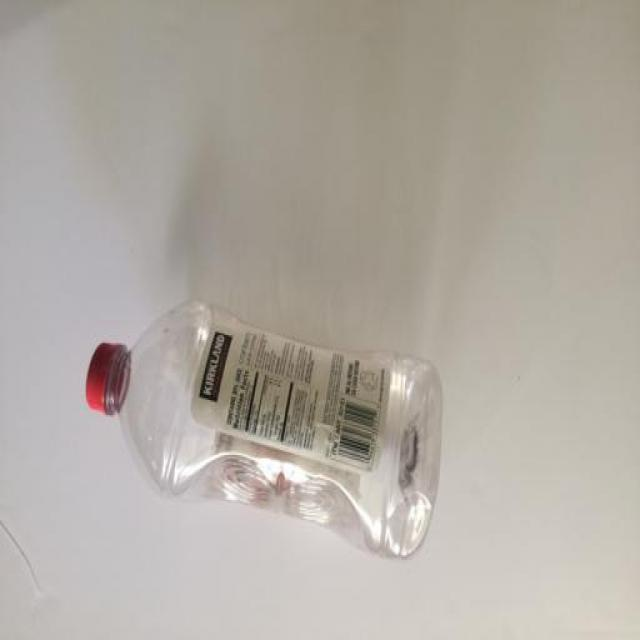plastic_bottle: (81, 291, 472, 604)
